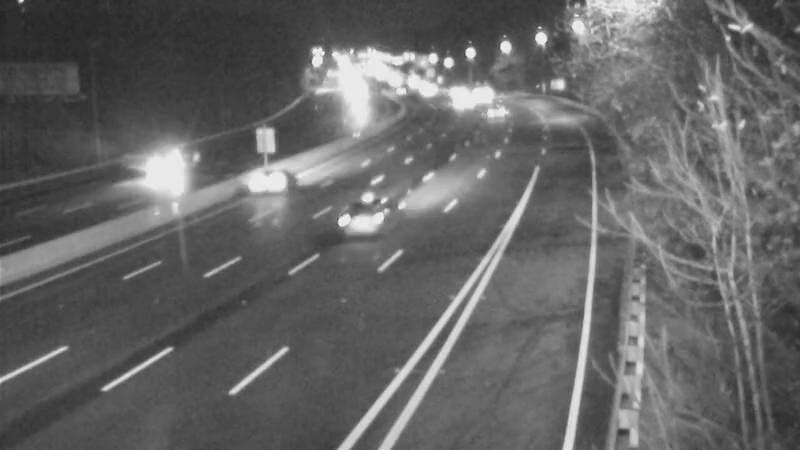vehicle: (232, 136, 312, 216), (333, 181, 413, 261), (122, 131, 202, 211), (454, 69, 504, 119), (428, 71, 478, 121), (470, 86, 520, 136)
